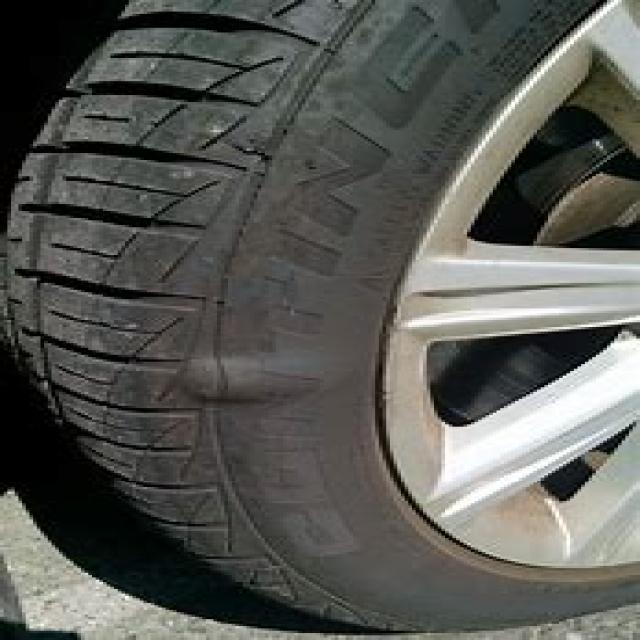Bulge: (160, 344, 358, 422)
